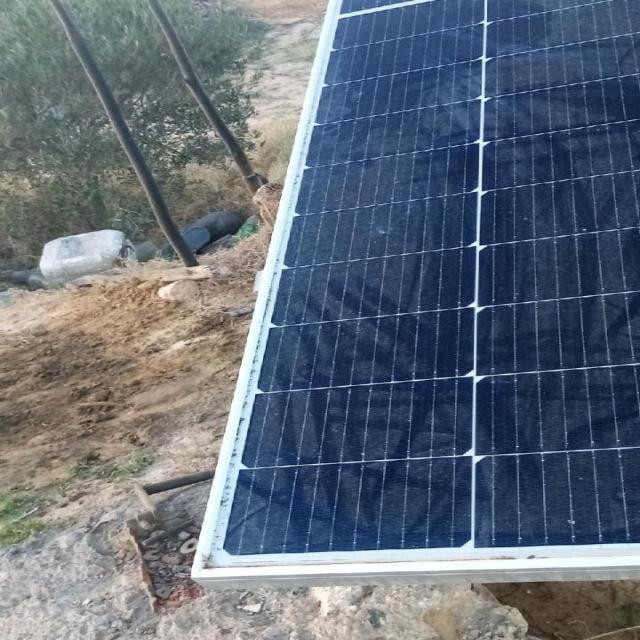faulty: (196, 0, 640, 587)
